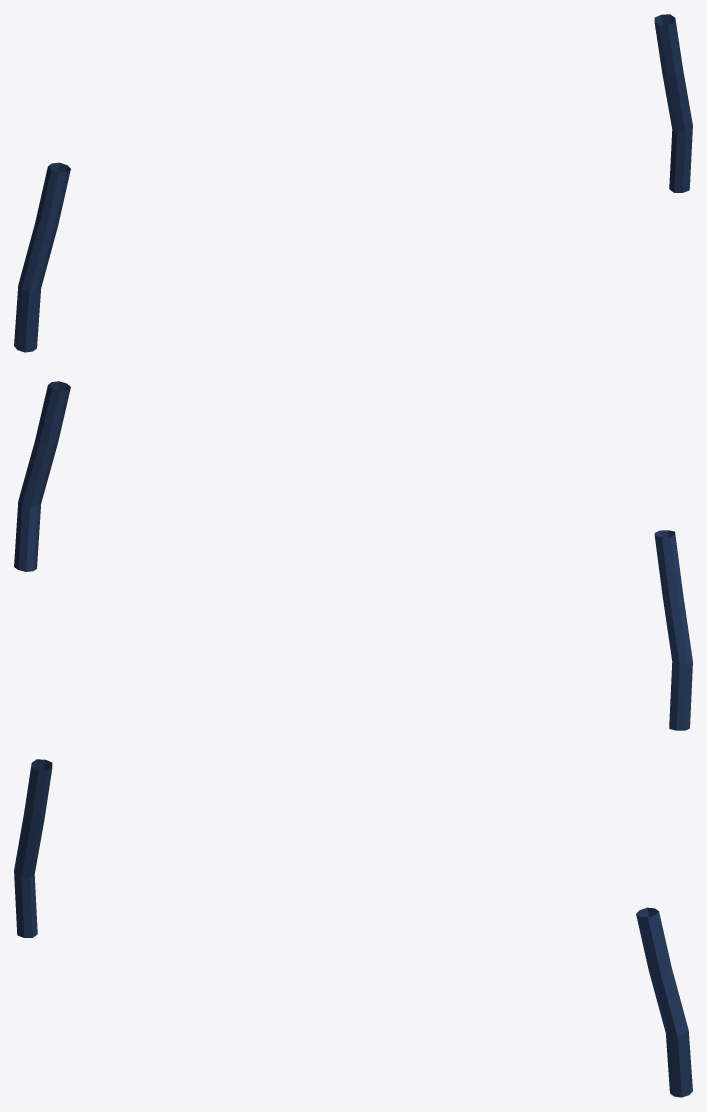
File: Vena Poplítea.FBX
3 views of the same model, one above another, from view 1: azimuth 30°, elevation 25°; view 2: azimuth 150°, elevation 25°; view 3: azimuth 330°, elevation 25° (orthographic).
Parts seen in each view (by area): view 1: CS_Veins; view 2: CS_Veins; view 3: CS_Veins.
Part boxes in pixels (<box>): CS_Veins: <box>14,14,692,352</box>; CS_Veins: <box>14,381,692,730</box>; CS_Veins: <box>14,759,692,1097</box>.
Bounding box in the file's own units: 878 × 228 × 45.45.
